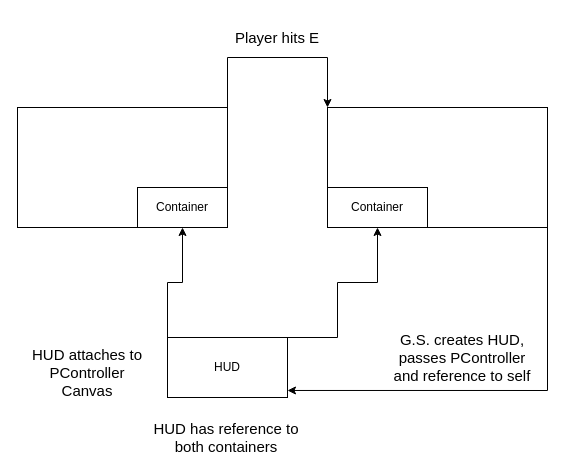
Image size: 573x474. Some labels were removed from this diagram. Here are the shapes that lost their labels. From the top down, the box of each, then its label:
(16, 106, 228, 228): Player
(326, 106, 548, 228): GenericStash
